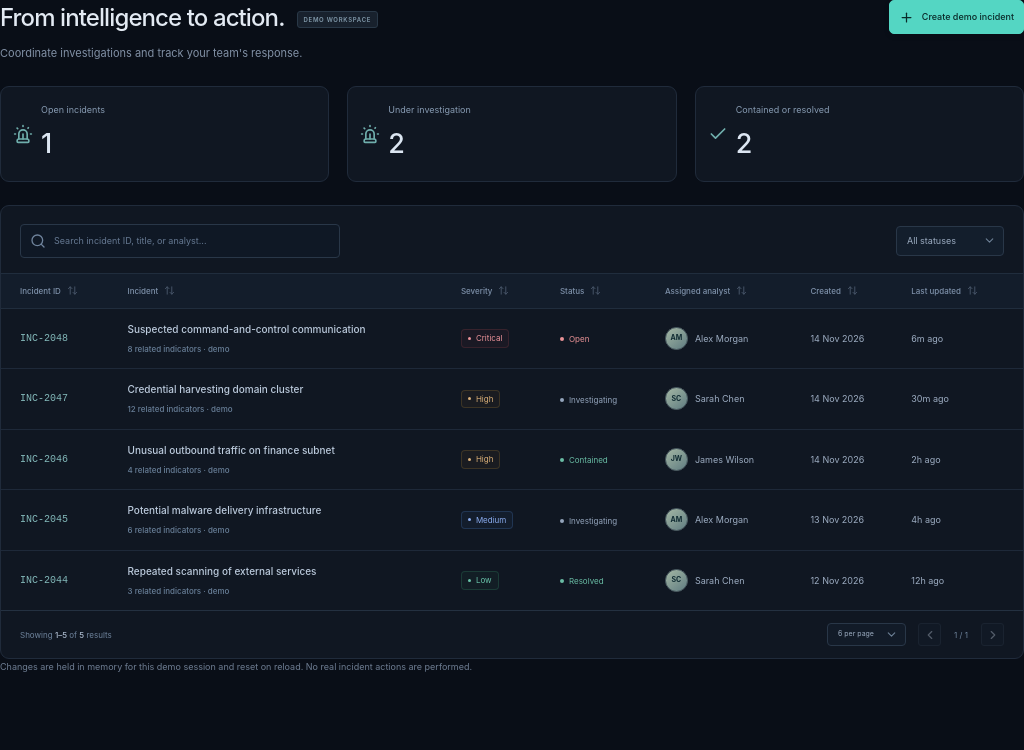
intelligence workflows › creates and updates a fictional incident without a backend
Check: the table is shown, box [1, 273, 1023, 610]
Click the button "Create demo incident" at (956,17), box [889, 0, 1023, 34]
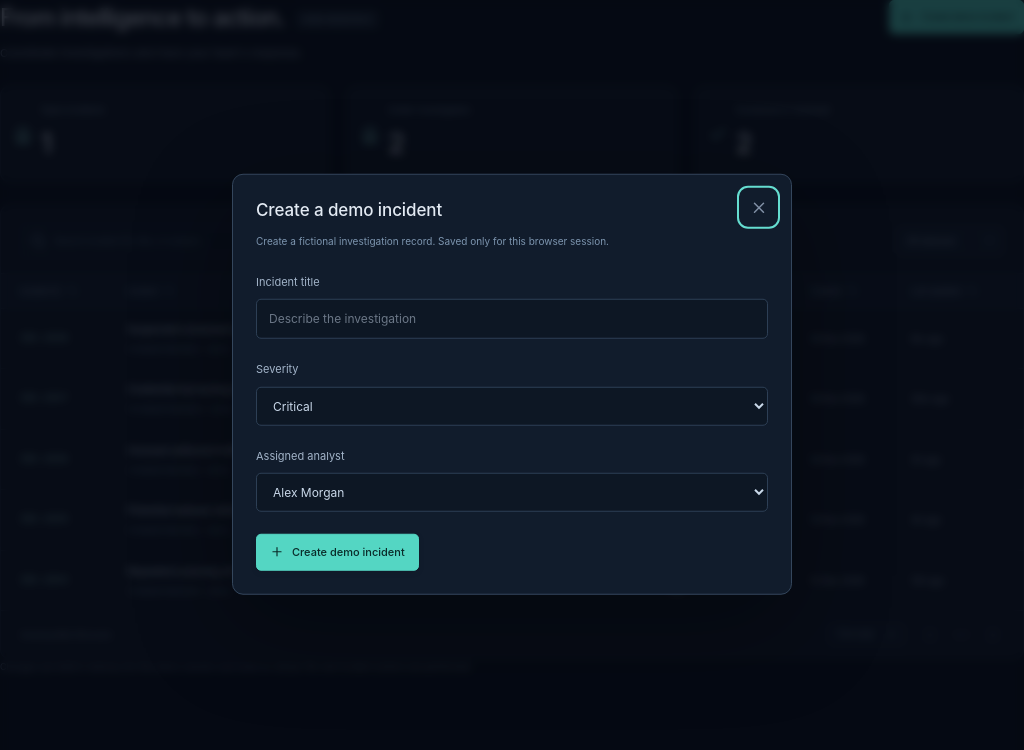
Type "Test investigation" into the field labelled "Incident title" at (512,319), box [256, 299, 768, 339]
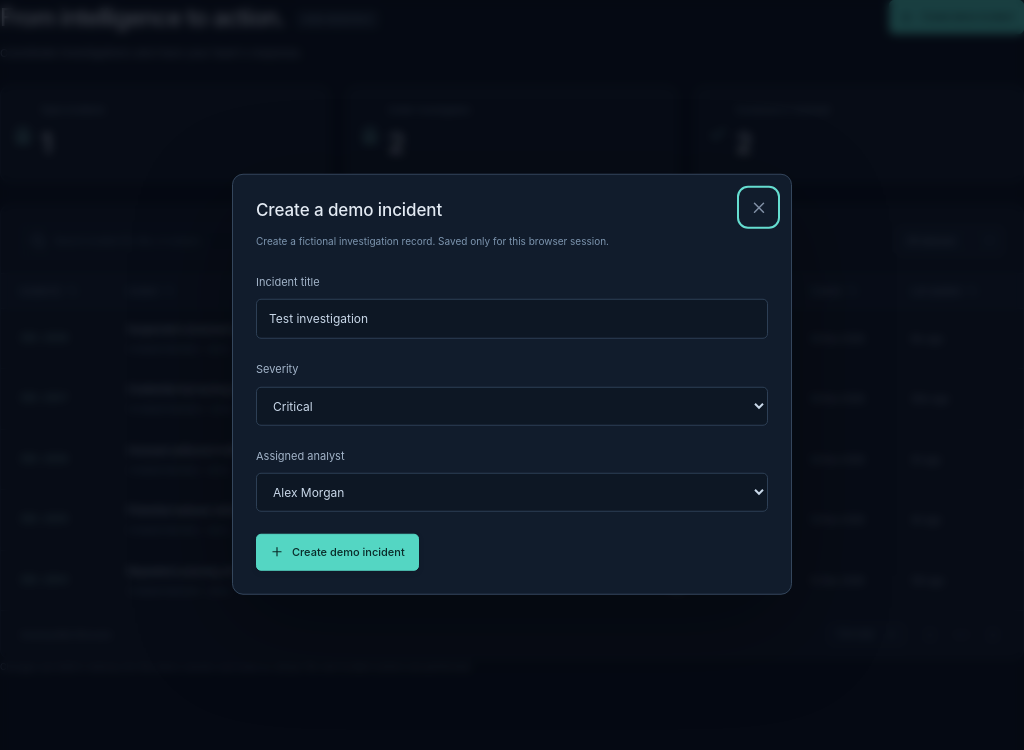
Submit the form "Create demo incident", box [256, 273, 768, 570]
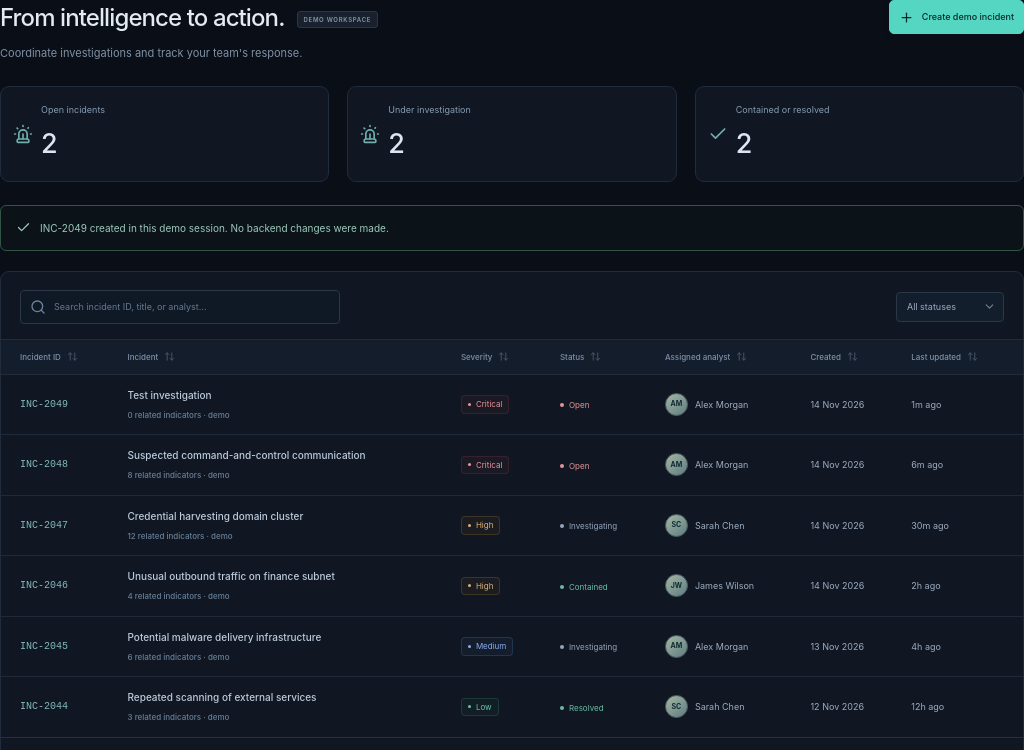
Check: the dialog is gone
Check: the button "Test investigation" is shown, box [128, 388, 230, 421]
Click the button "INC-2049" at (44,404), box [20, 397, 68, 412]
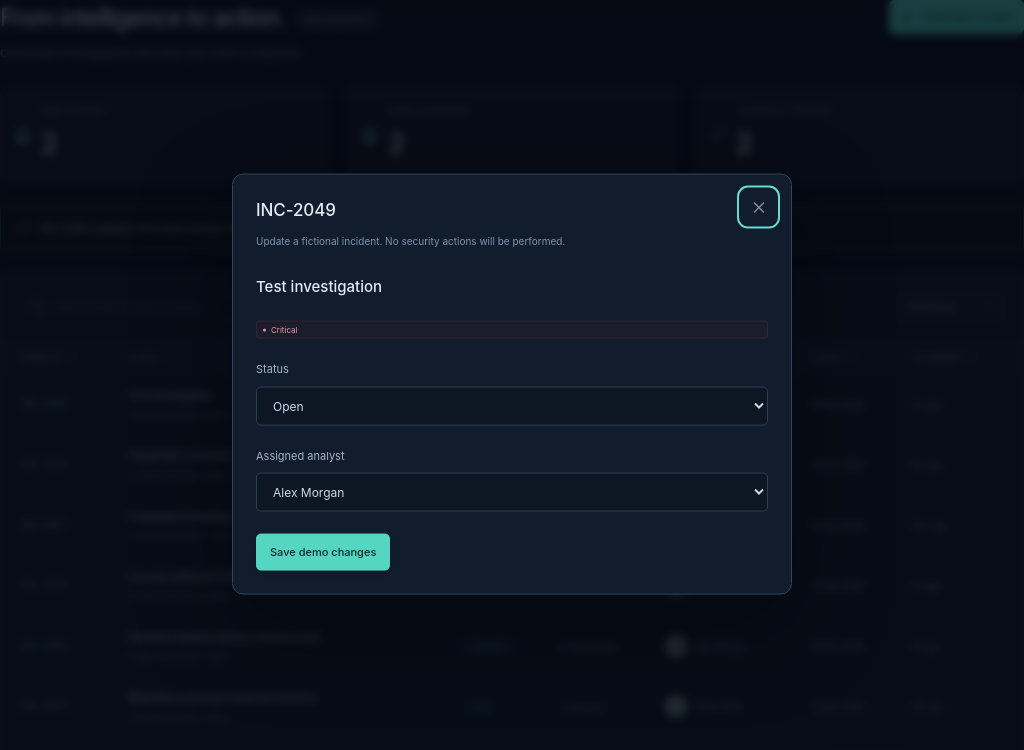
Select "Resolved" in the dropdown labelled "Status" at (512,406), box [256, 386, 768, 425]
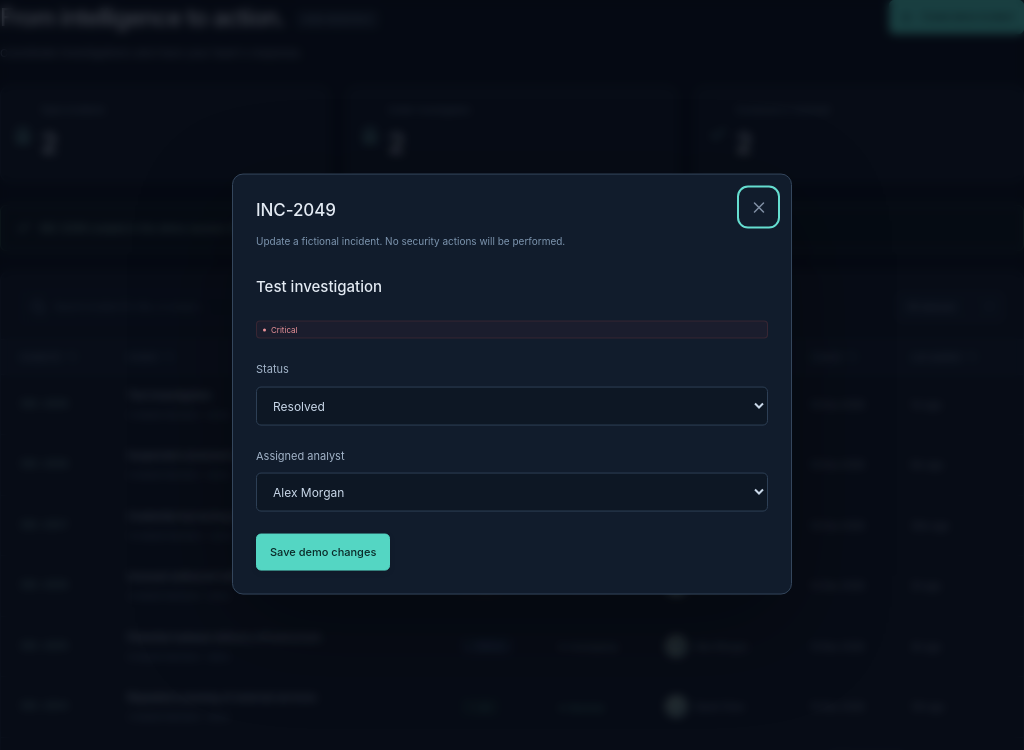
Click the button "Save demo changes" at (323,552), box [256, 534, 390, 570]
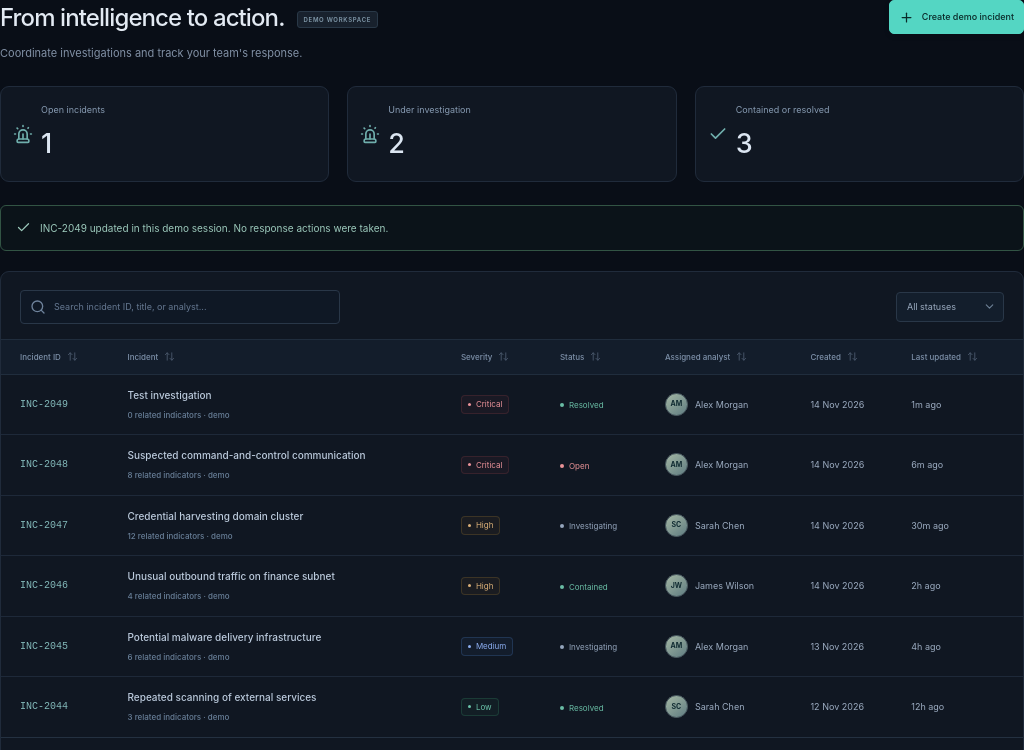
Check: the message shows "No response actions were taken", box [40, 222, 388, 234]
